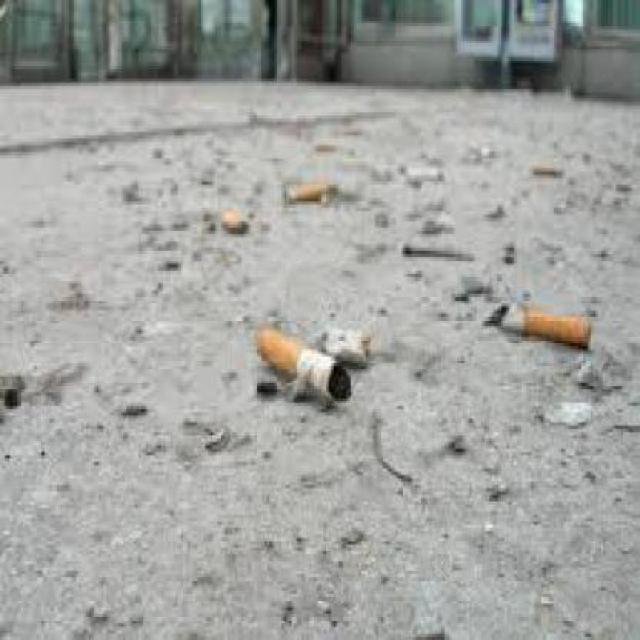cigarette: (222, 314, 366, 418), (472, 288, 613, 366), (289, 158, 351, 218)
